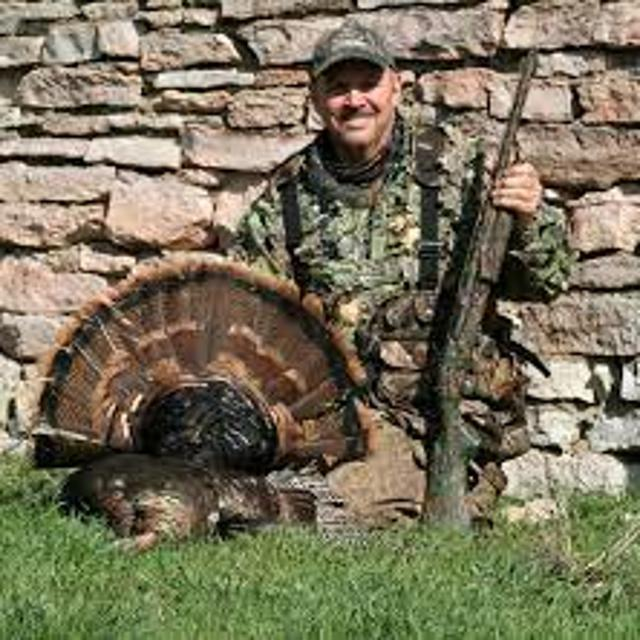gun: (390, 29, 563, 576)
ranger: (175, 5, 567, 543)
